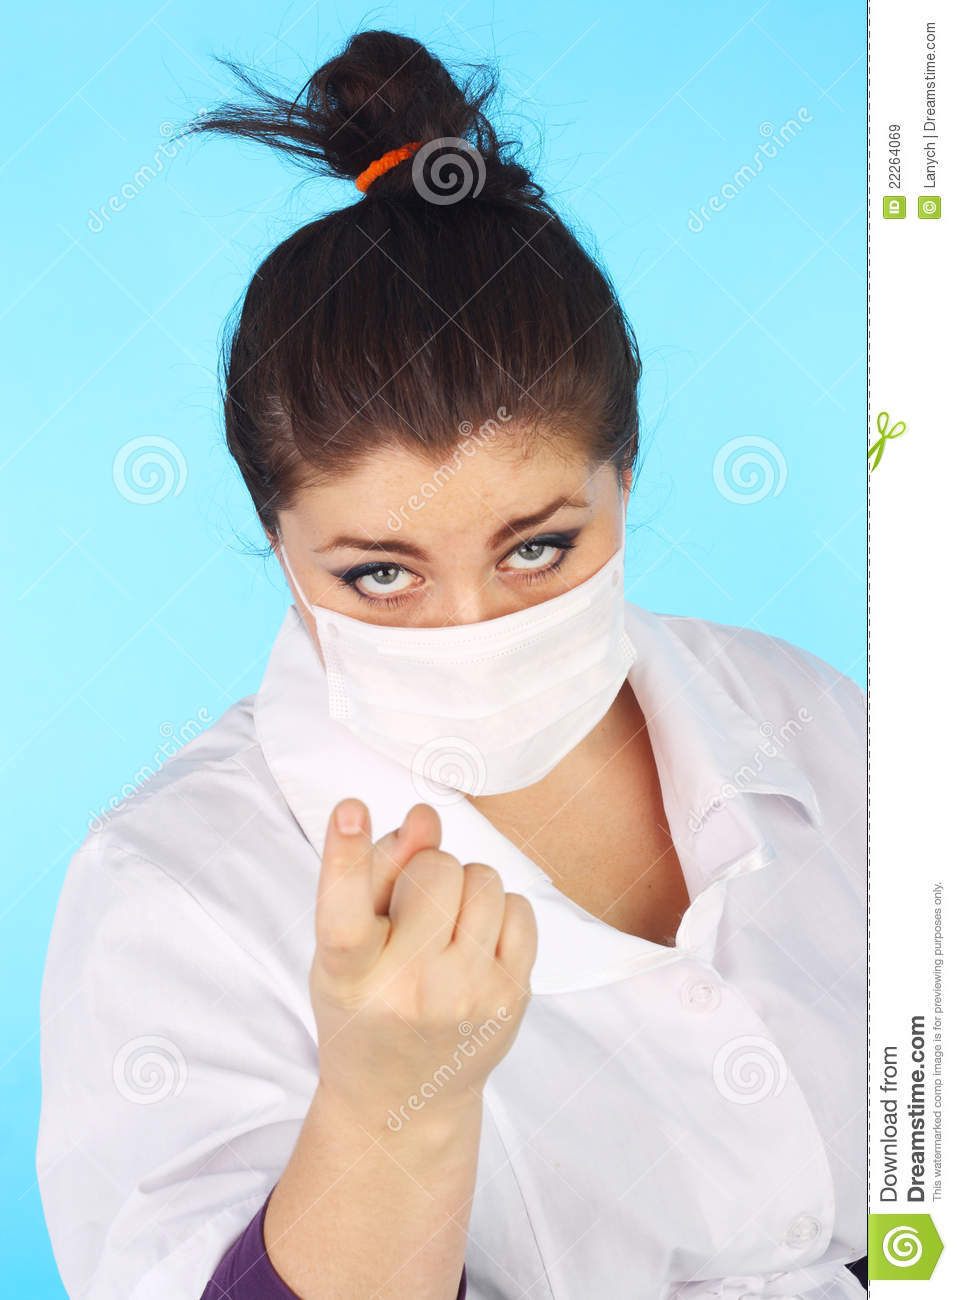mask: (320, 595, 641, 796)
